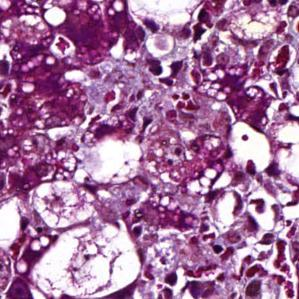ballooning: (26, 219, 143, 299), (28, 177, 99, 232), (225, 119, 276, 177)
